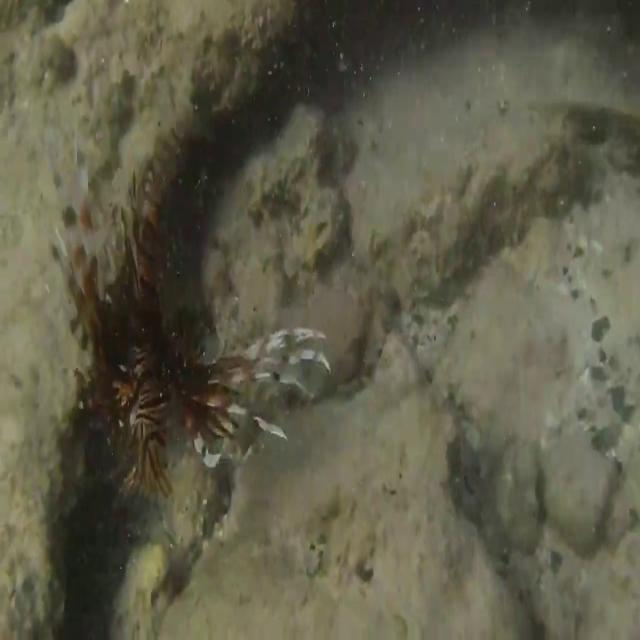Aslan Baligi: (32, 107, 336, 504)
